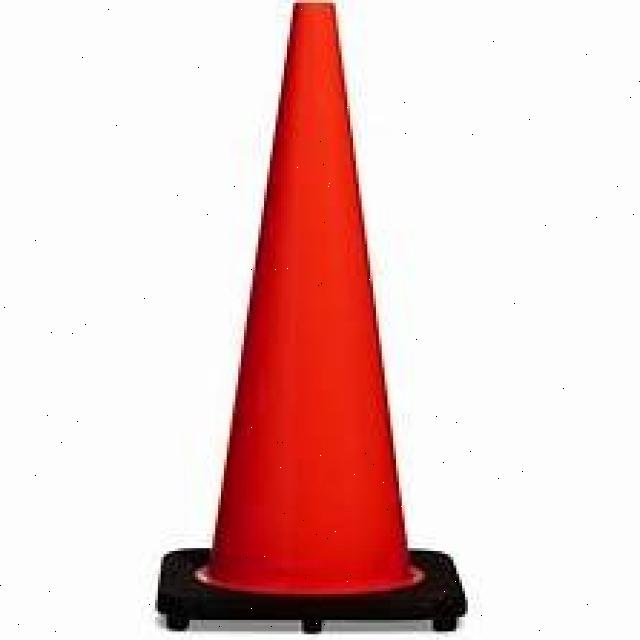traffic cone: (139, 1, 478, 640)
